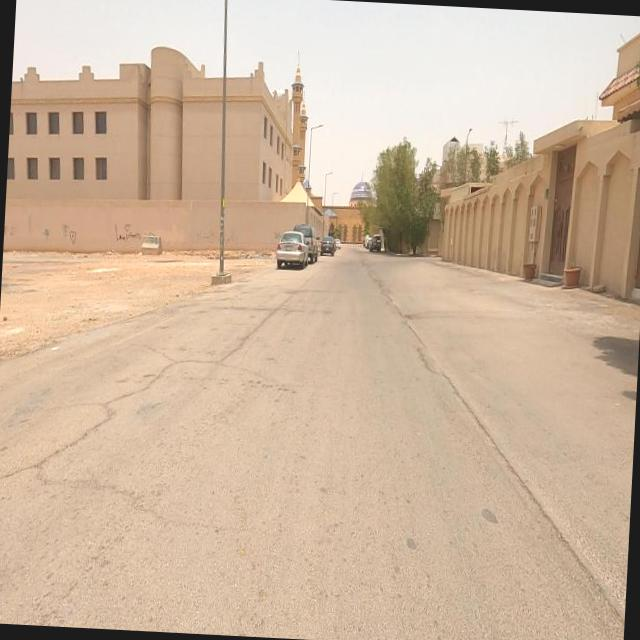debris: (81, 184, 172, 278), (34, 185, 110, 278)
